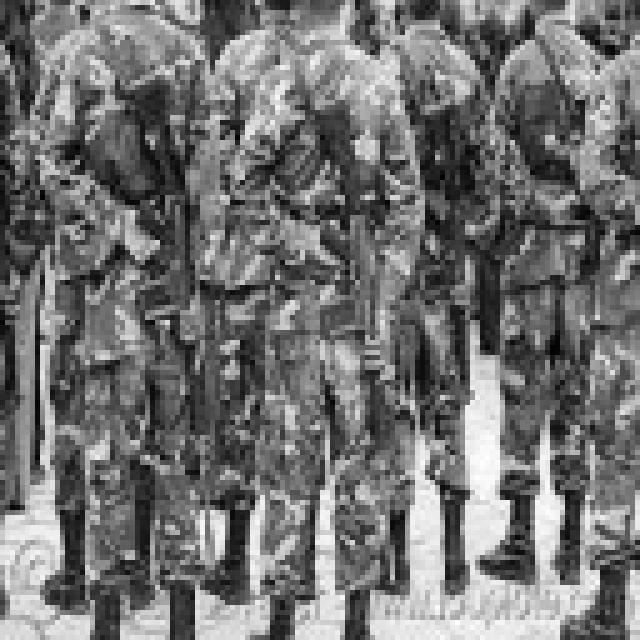Rifle: (117, 58, 255, 540), (300, 92, 428, 475), (0, 0, 80, 175)
